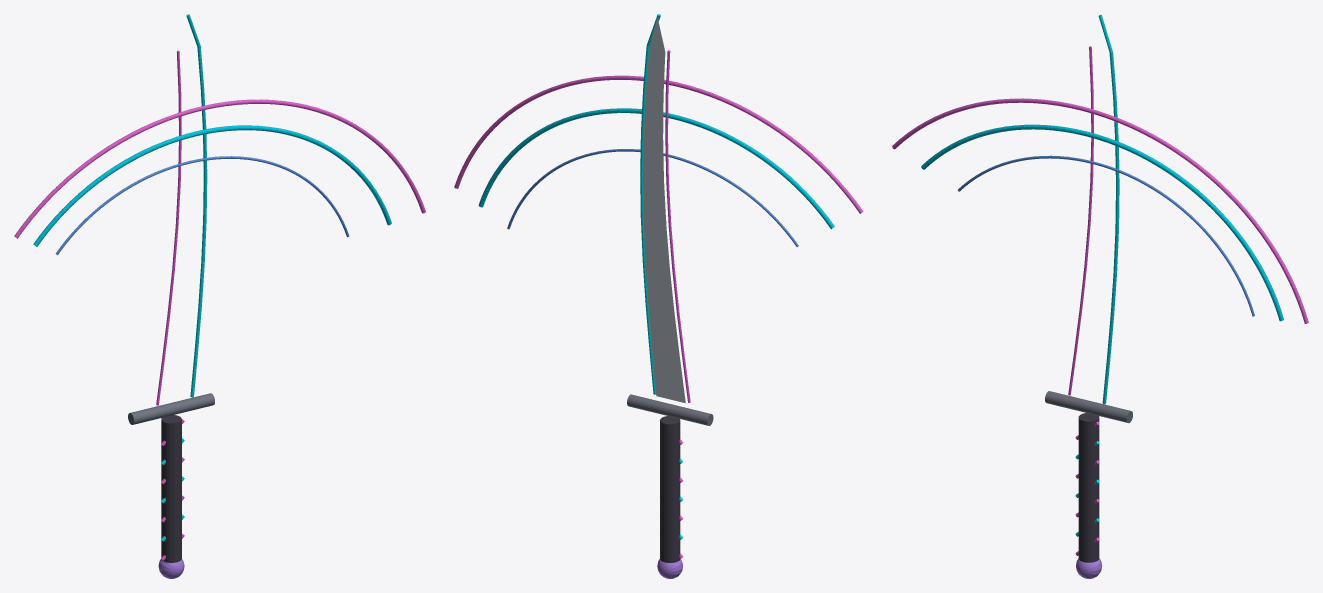
The model's file is smooth_neon_katana.glb.
3 views of the same model, side by side, from view 1: azimuth 30°, elevation 25°; view 2: azimuth 150°, elevation 25°; view 3: azimuth 330°, elevation 25° (orthographic).
Visible parts, largest first — view 1: part_000, part_008; view 2: part_010, part_000, part_008; view 3: part_000, part_008.
Boxes of the visible parts, <box> form: part_000: <box>161,415,181,562</box>; part_008: <box>128,393,214,424</box>; part_010: <box>643,17,685,403</box>; part_000: <box>660,416,680,562</box>; part_008: <box>627,394,713,425</box>; part_000: <box>1078,413,1099,562</box>; part_008: <box>1045,391,1132,423</box>.
Size of the model in its own units: 3.45 by 4.51 by 0.3815.
